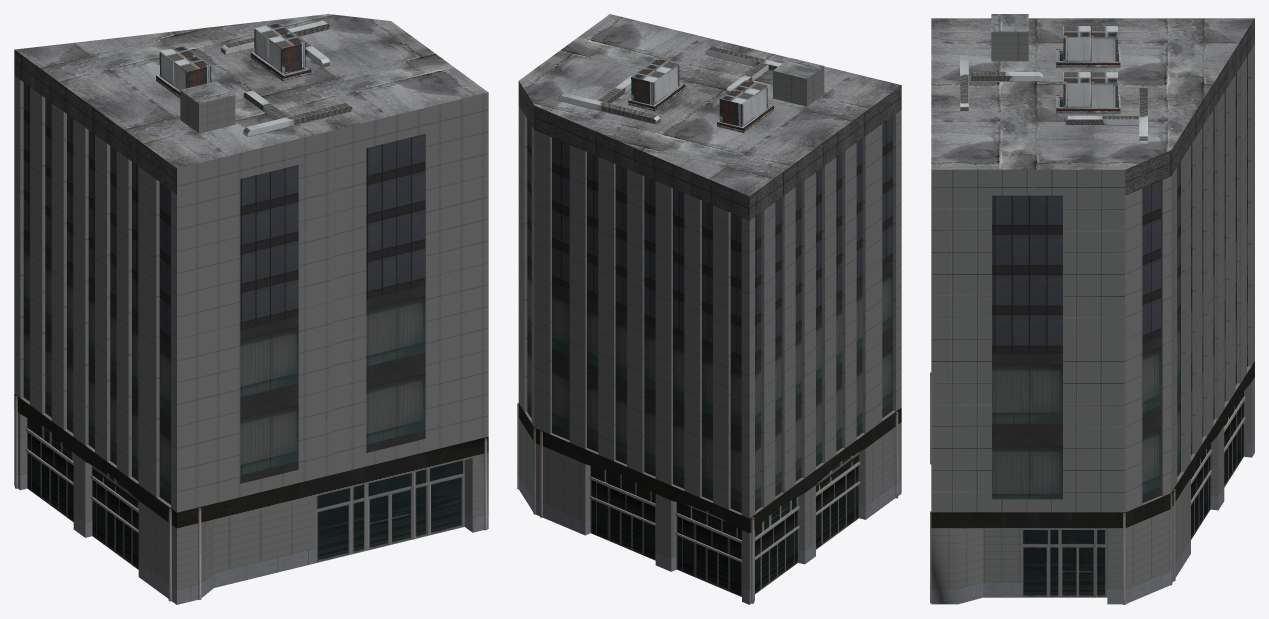
Rendered from tutorial_building8.gltf.
3 views of the same model, side by side, from view 1: azimuth 30°, elevation 25°; view 2: azimuth 150°, elevation 25°; view 3: azimuth 270°, elevation 25° (orthographic). The views are drawn at different scales.
Parts seen in each view (by area): view 1: building8; view 2: building8; view 3: building8.
Part boxes in pixels (bbox=[...]): building8: bbox=[14, 14, 488, 604]; building8: bbox=[517, 14, 901, 604]; building8: bbox=[930, 14, 1254, 604].
Size of the model in its own units: 19.75 by 27.97 by 17.74.
Materials: 3 (3 with a texture image).
